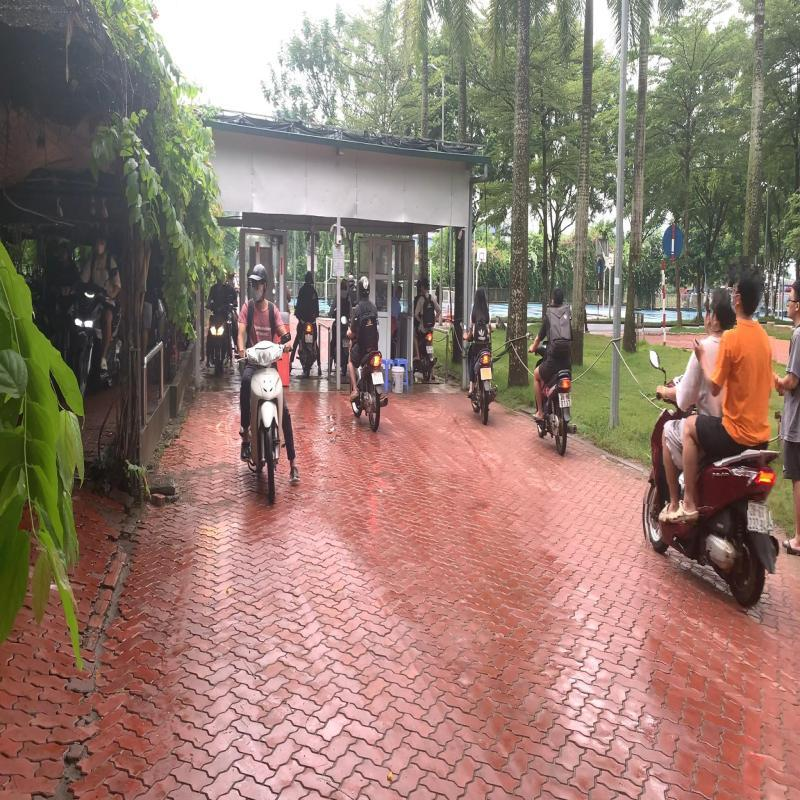licenseplate: (746, 502, 770, 534)
motorcyclist: (636, 257, 786, 614)
nohelmet: (730, 263, 765, 320), (709, 288, 737, 330)
